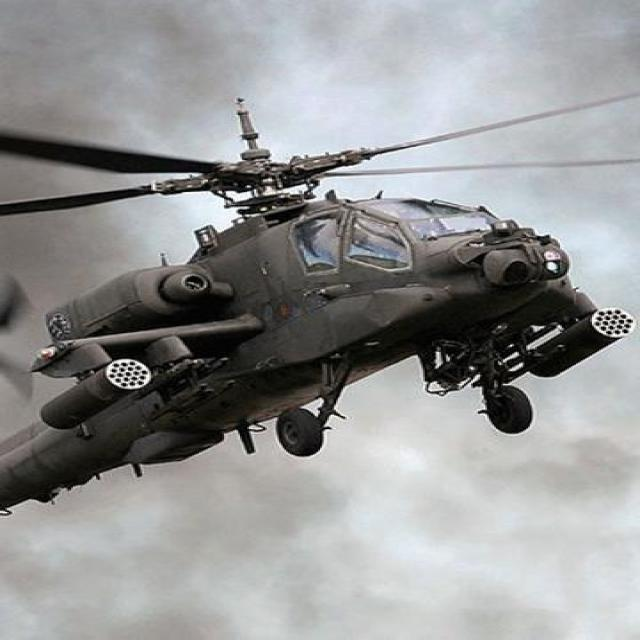MIL_HELO: (21, 88, 640, 506)
